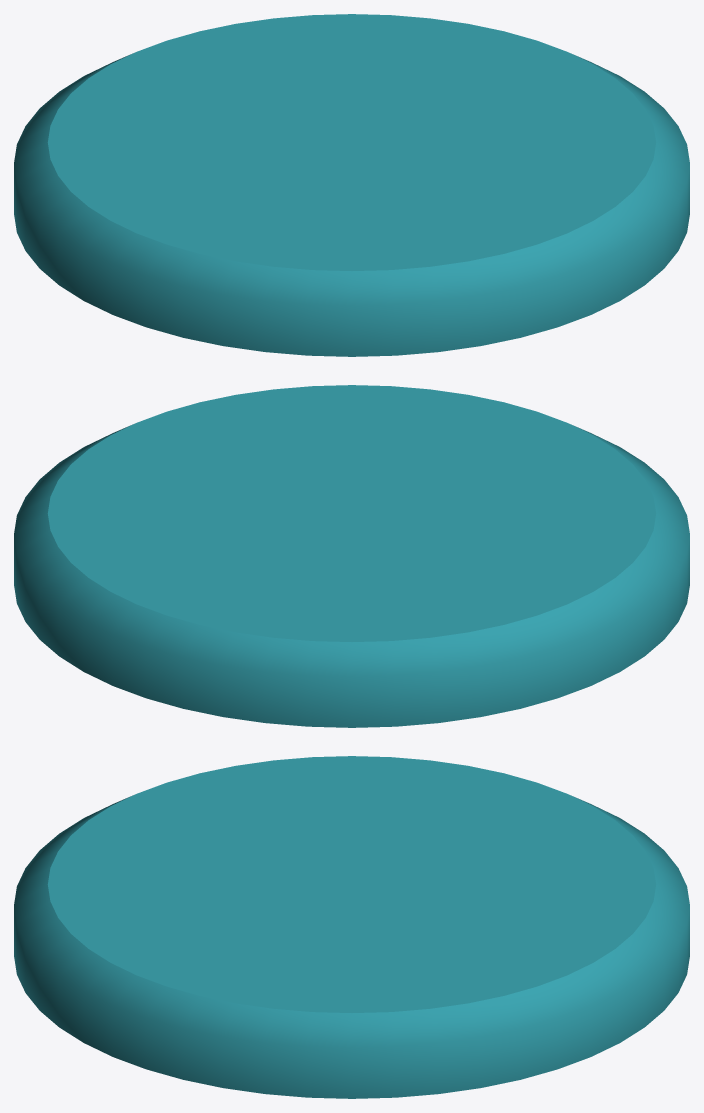
File: balance_pad.glb
3 renders of one model, top to bottom at view 1: azimuth 30°, elevation 25°; view 2: azimuth 150°, elevation 25°; view 3: azimuth 270°, elevation 25°, orthographic.
Visible parts, largest first — view 1: balance_pad; view 2: balance_pad; view 3: balance_pad.
Part boxes in pixels (left/top/right/bottom): balance_pad: left=14, top=14, right=689, bottom=356; balance_pad: left=14, top=385, right=689, bottom=727; balance_pad: left=14, top=756, right=689, bottom=1098.
Size of the model in its own units: 0.6 by 0.07 by 0.6.
